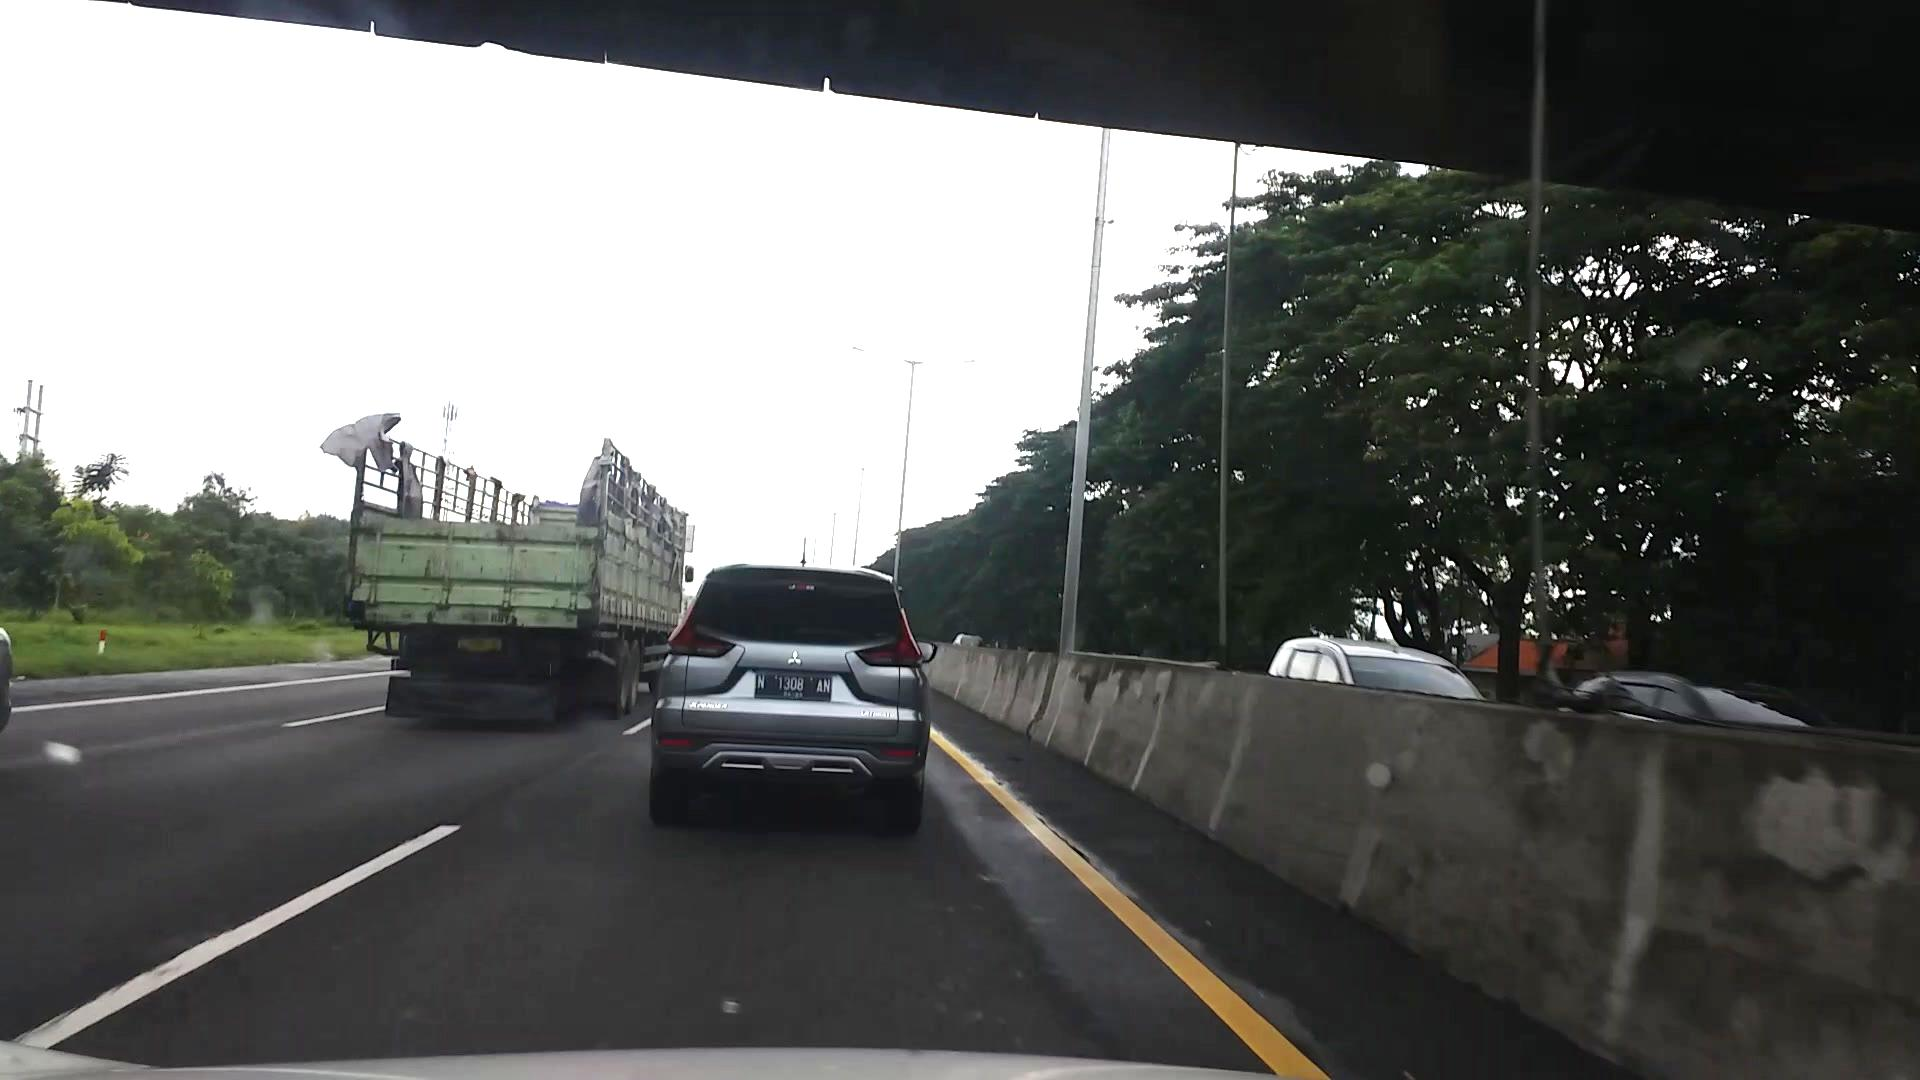plate_positive: (756, 671, 832, 700)
